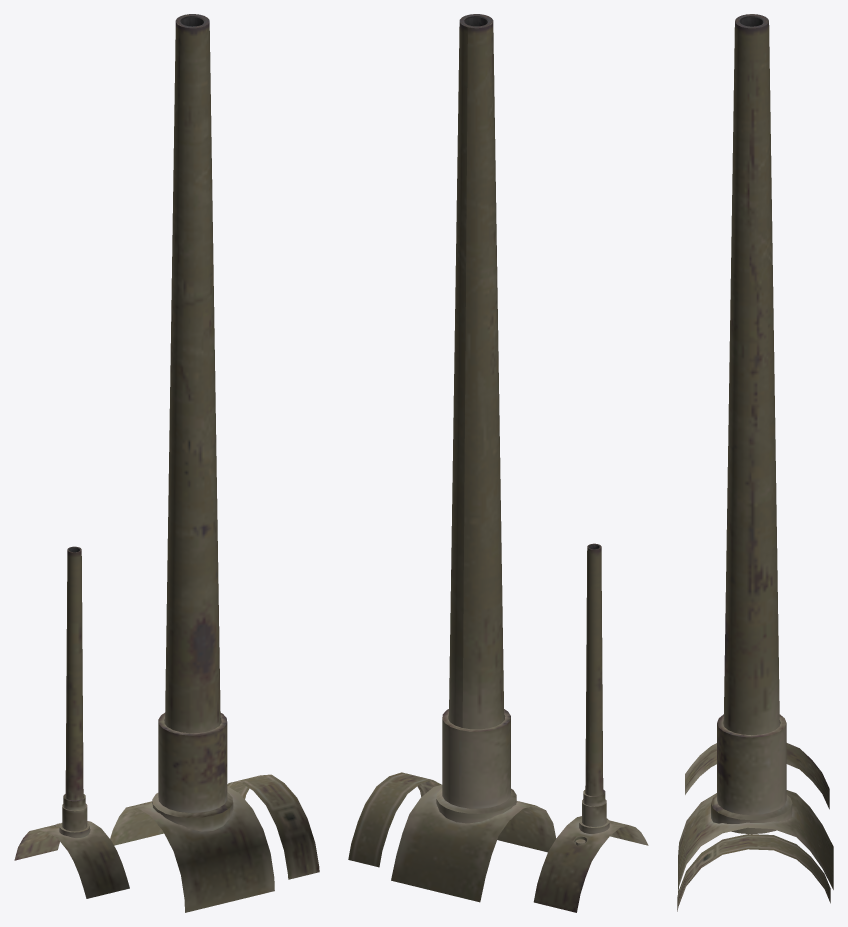
Rendered from Gun_07.glb.
3 views of the same model, side by side, from view 1: azimuth 30°, elevation 25°; view 2: azimuth 150°, elevation 25°; view 3: azimuth 270°, elevation 25° (orthographic).
Parts seen in each view (by area): view 1: set_0_group_0; view 2: set_0_group_0; view 3: set_0_group_0.
Part boxes in pixels (left/top/right/bottom): set_0_group_0: left=14, top=14, right=319, bottom=912; set_0_group_0: left=348, top=14, right=648, bottom=912; set_0_group_0: left=677, top=14, right=833, bottom=911.
Bounding box in the file's own units: 0.8885 × 3.16 × 0.5229.
Materials: 1 (1 with a texture image).
